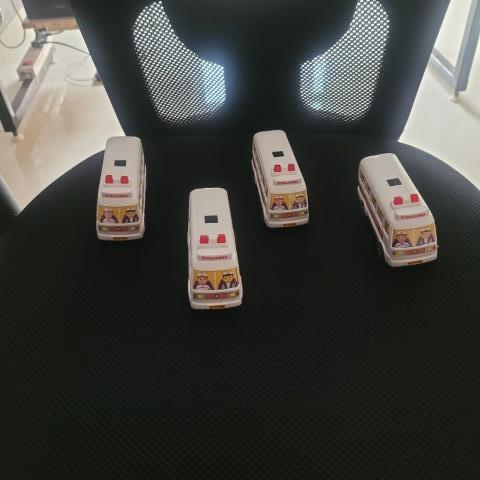ambulance: (351, 148, 441, 268), (185, 183, 245, 312), (247, 127, 314, 231), (96, 133, 147, 243)
